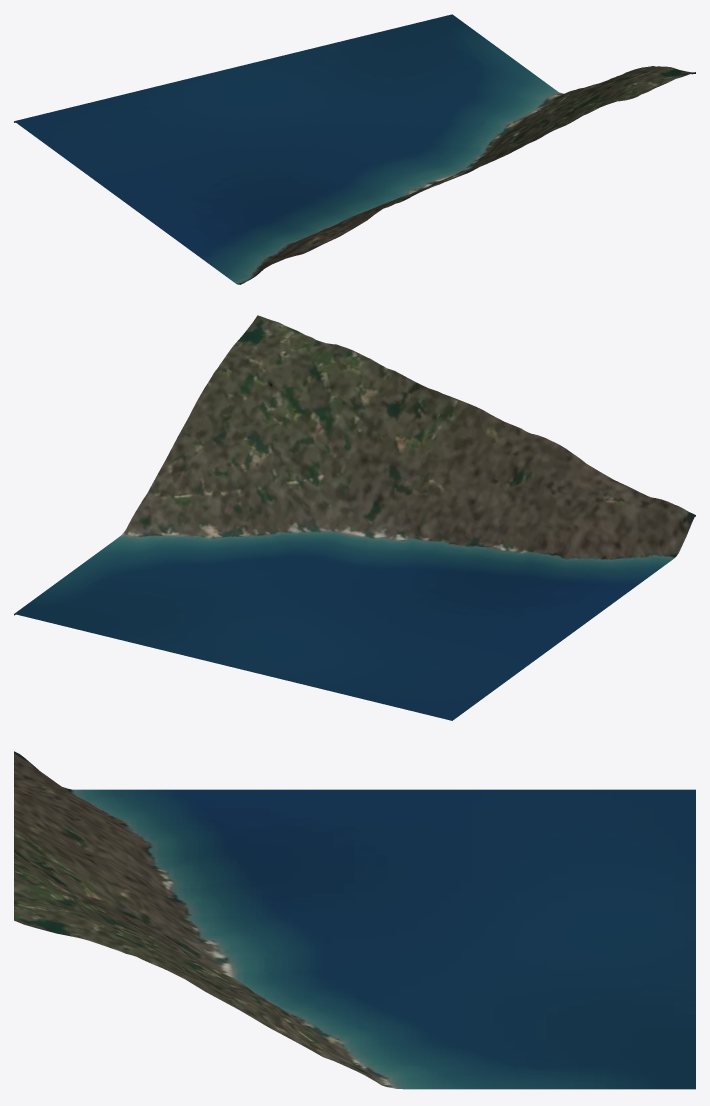
The picture shows the model from 3 angles, top to bottom: view 1: azimuth 30°, elevation 25°; view 2: azimuth 150°, elevation 25°; view 3: azimuth 270°, elevation 25°; orthographic projection. The views are drawn at different scales.
Bounding box in the file's own units: 250 × 66.67 × 241.
Materials: 1 (1 with a texture image).
